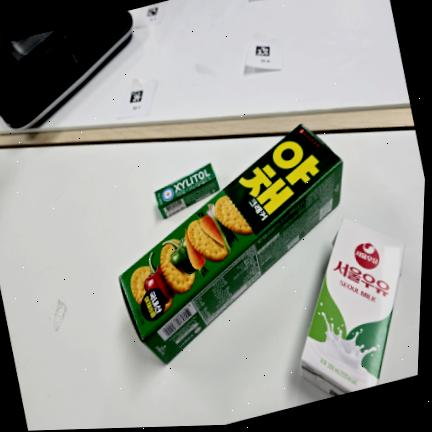cracker_vege: (119, 124, 343, 364)
gum_green: (155, 163, 219, 218)
milk_green: (301, 218, 405, 396)
